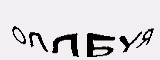Б: (85, 28, 117, 59)
Л: (52, 27, 81, 60), (29, 29, 48, 52)
О: (7, 23, 27, 45)
Я: (138, 27, 154, 50)
Ү: (117, 31, 139, 54)
